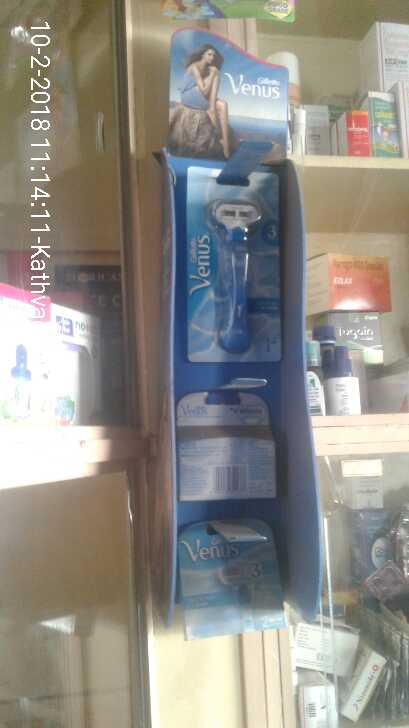venus: (177, 161, 291, 362), (172, 512, 291, 637)
